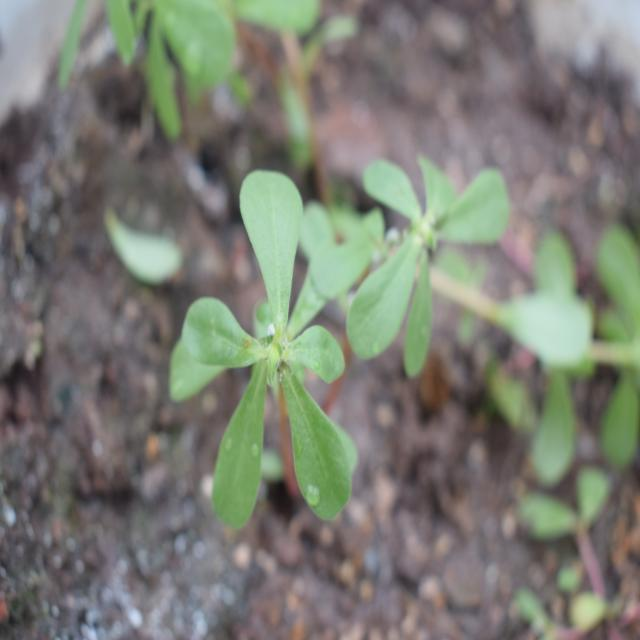purslane: (153, 133, 500, 526)
